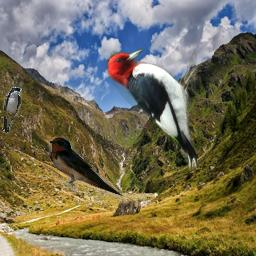Swallow: (47, 136, 124, 197), (2, 87, 22, 133)
Woodpecker: (107, 48, 197, 169)
